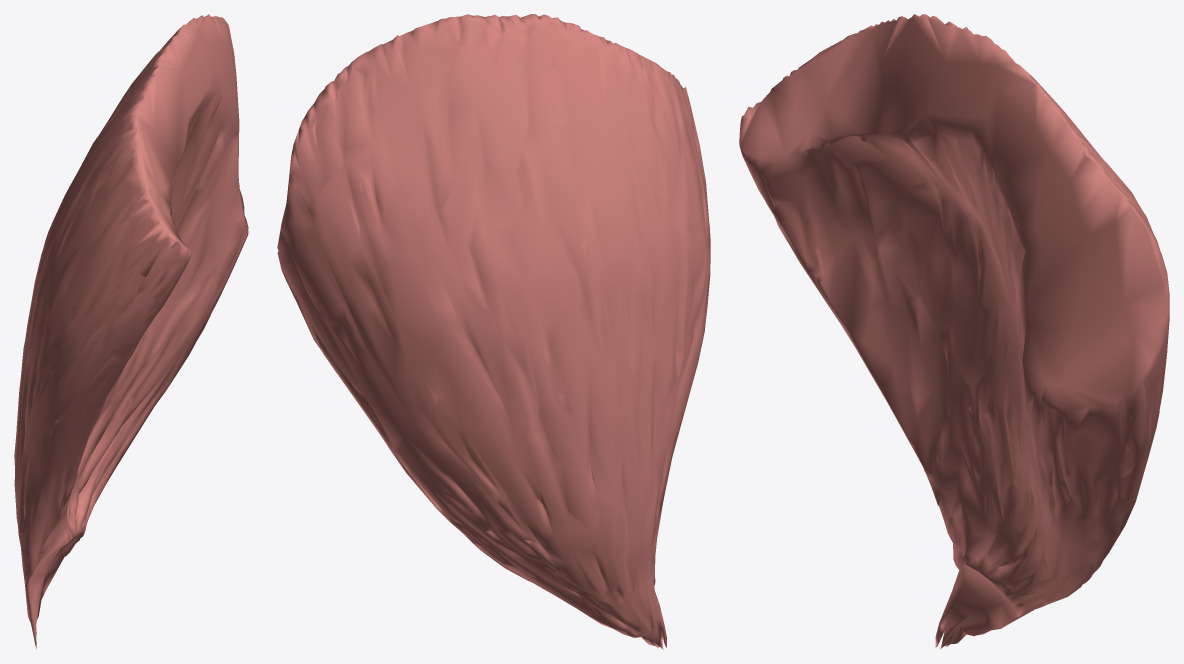
3 renders of one model, left to right at view 1: azimuth 30°, elevation 25°; view 2: azimuth 150°, elevation 25°; view 3: azimuth 270°, elevation 25°, orthographic. The views are drawn at different scales.
Parts seen in each view (by area): view 1: ZA_cc11824f98a0b004; view 2: ZA_cc11824f98a0b004; view 3: ZA_cc11824f98a0b004.
Boxes of the visible parts, bbox=[...] form: ZA_cc11824f98a0b004: bbox=[14, 14, 248, 649]; ZA_cc11824f98a0b004: bbox=[277, 14, 710, 649]; ZA_cc11824f98a0b004: bbox=[739, 14, 1169, 649].
Bounding box in the file's own units: 0.0891 × 0.168 × 0.0916.
